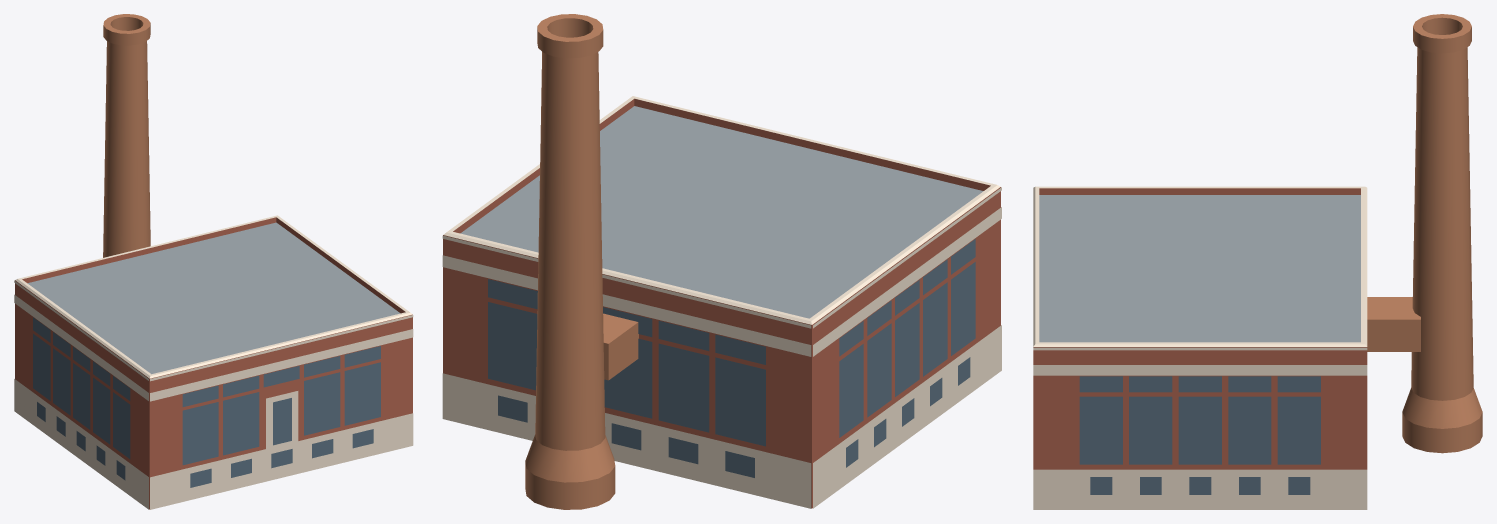
Rendered from clt-cne-kahn-boilerhouse.glb.
3 views of the same model, side by side, from view 1: azimuth 30°, elevation 25°; view 2: azimuth 150°, elevation 25°; view 3: azimuth 270°, elevation 25° (orthographic). The views are drawn at different scales.
Parts seen in each view (by area): view 1: Kahn Boilerhouse, Camp North End; view 2: Kahn Boilerhouse, Camp North End; view 3: Kahn Boilerhouse, Camp North End.
Part boxes in pixels (<box>): Kahn Boilerhouse, Camp North End: <box>14,14,413,509</box>; Kahn Boilerhouse, Camp North End: <box>442,14,1001,509</box>; Kahn Boilerhouse, Camp North End: <box>1033,14,1482,509</box>.
Size of the model in its own units: 21.3 by 25.3 by 25.31.
